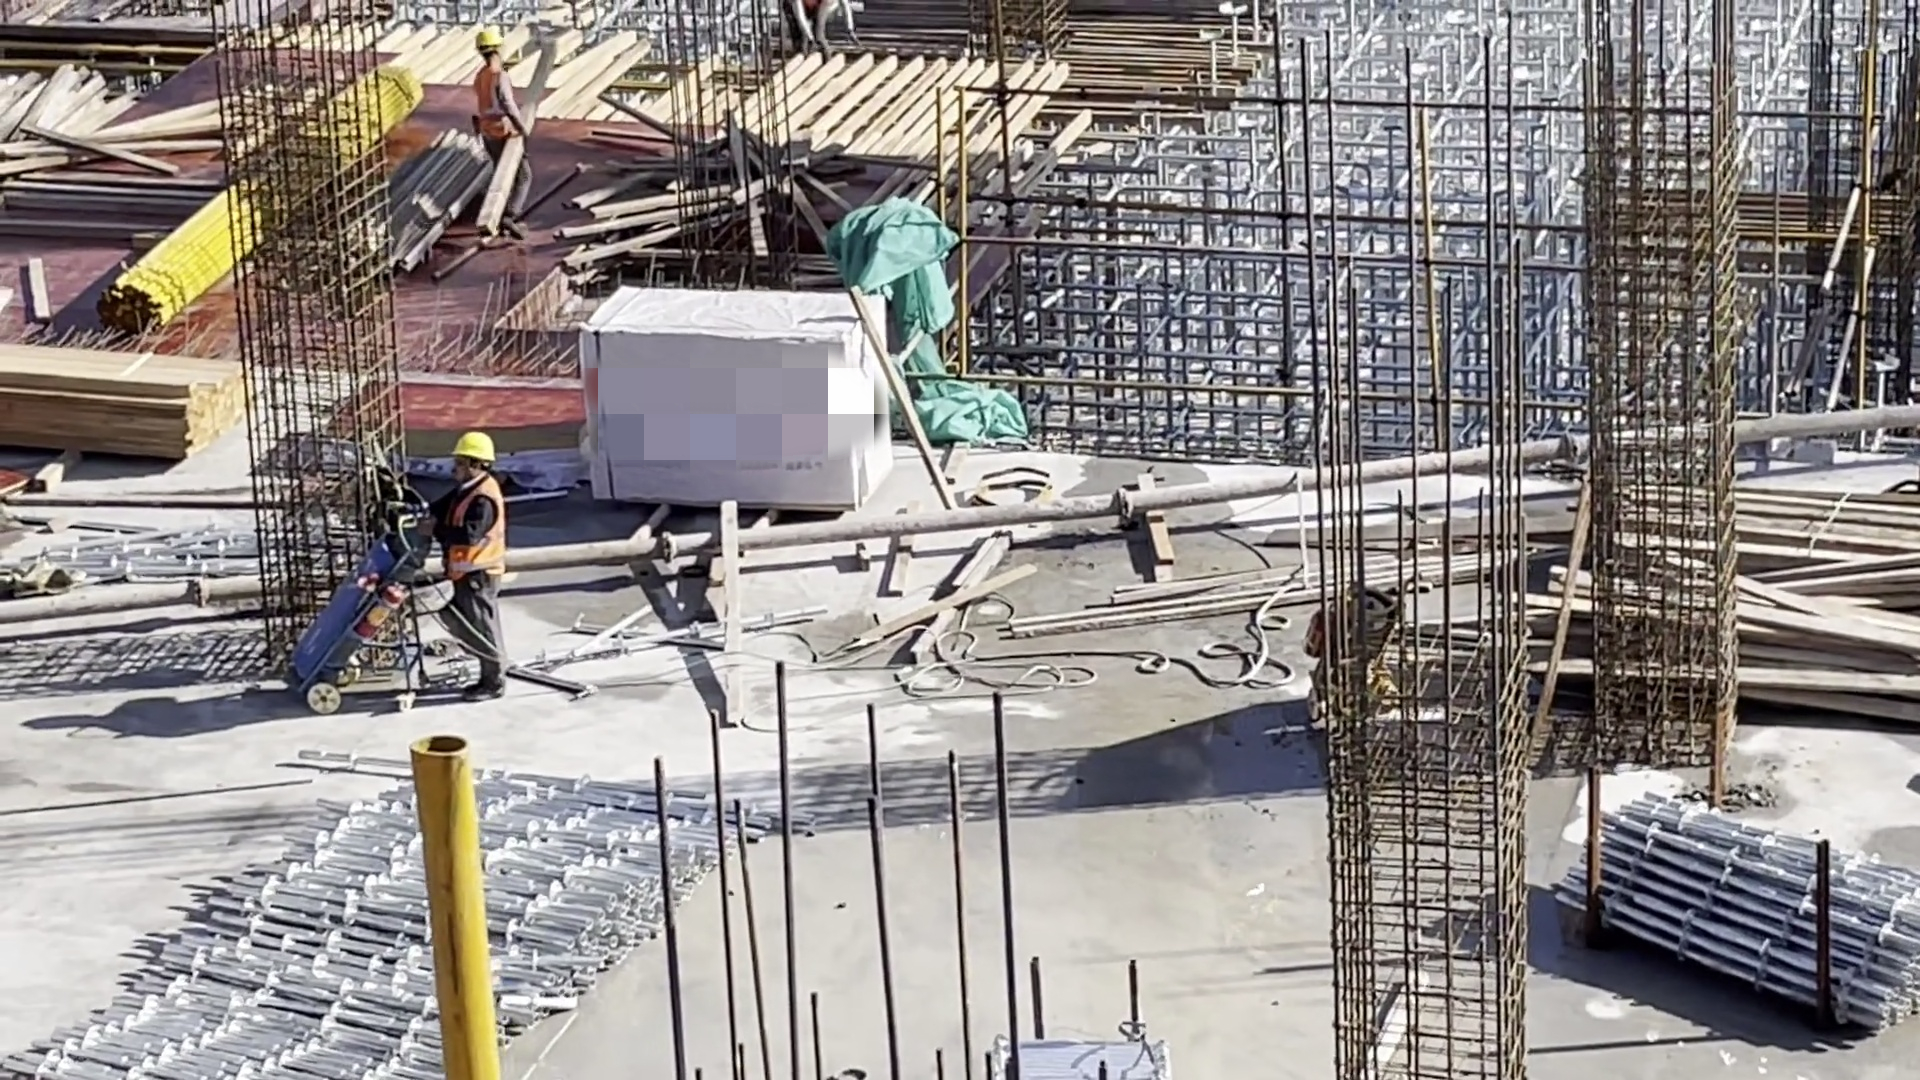helmet: (452, 430, 495, 465), (481, 25, 506, 54)
person: (438, 428, 517, 708), (475, 23, 543, 269), (782, 2, 859, 67)
scaffold: (3, 741, 814, 1078), (1557, 789, 1920, 1035)
vest: (451, 477, 503, 579), (474, 66, 521, 140)
wood: (6, 353, 252, 464)
